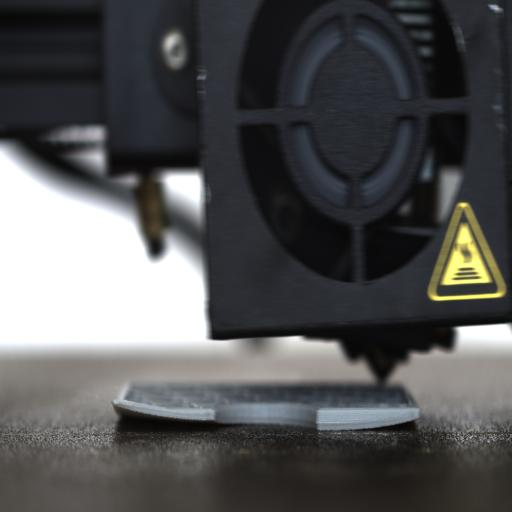warp: (103, 391, 217, 437), (362, 402, 423, 438)
